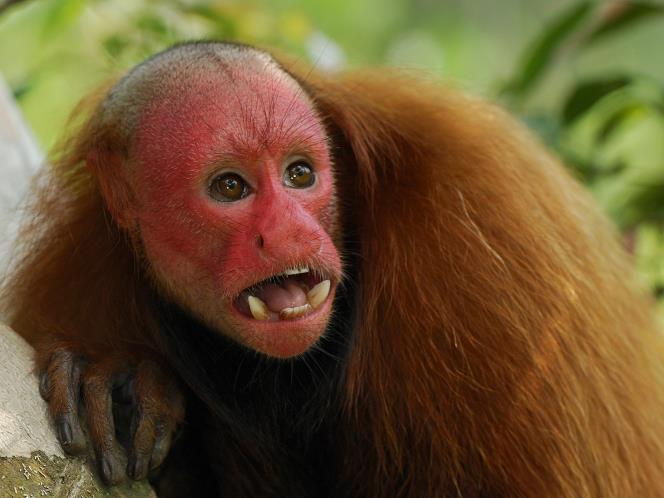monkey: (64, 42, 646, 498)
